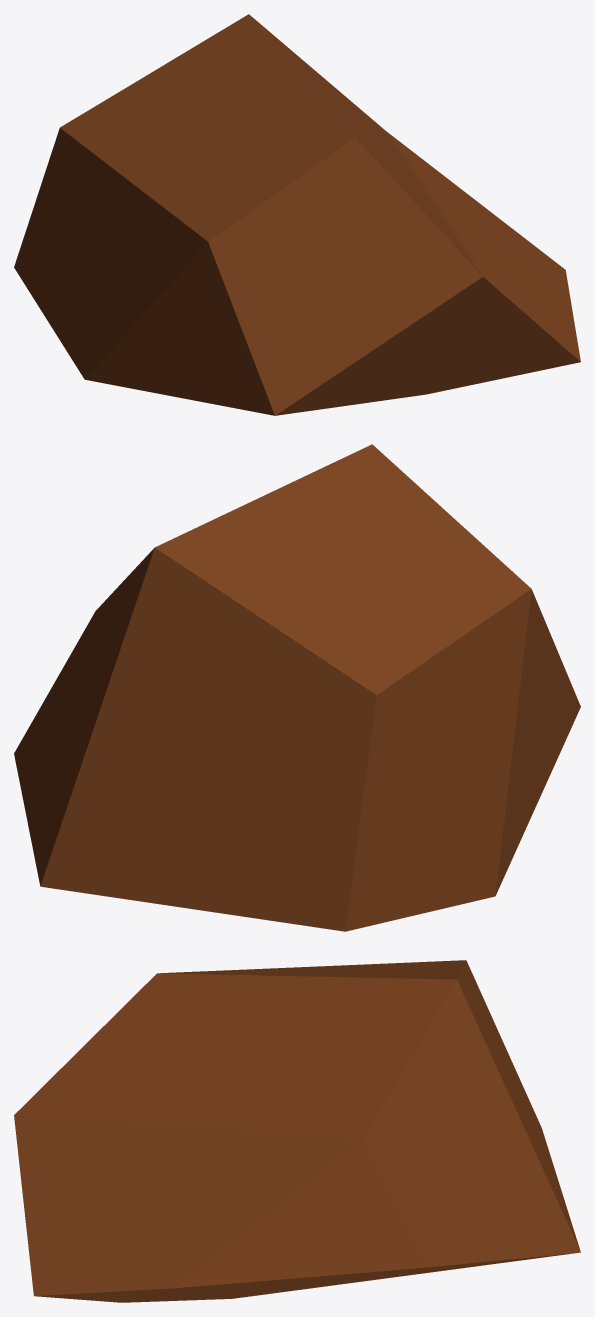
File: SmallRock_03.fbx
The picture shows the model from 3 angles, top to bottom: view 1: azimuth 30°, elevation 25°; view 2: azimuth 150°, elevation 25°; view 3: azimuth 270°, elevation 25°; orthographic projection. The views are drawn at different scales.
Visible parts, largest first — view 1: SmallRock_03; view 2: SmallRock_03; view 3: SmallRock_03.
Boxes of the visible parts, bbox=[...] form: SmallRock_03: bbox=[14, 14, 580, 415]; SmallRock_03: bbox=[14, 444, 580, 931]; SmallRock_03: bbox=[14, 960, 580, 1302].
Size of the model in its own units: 200 by 144 by 230.
